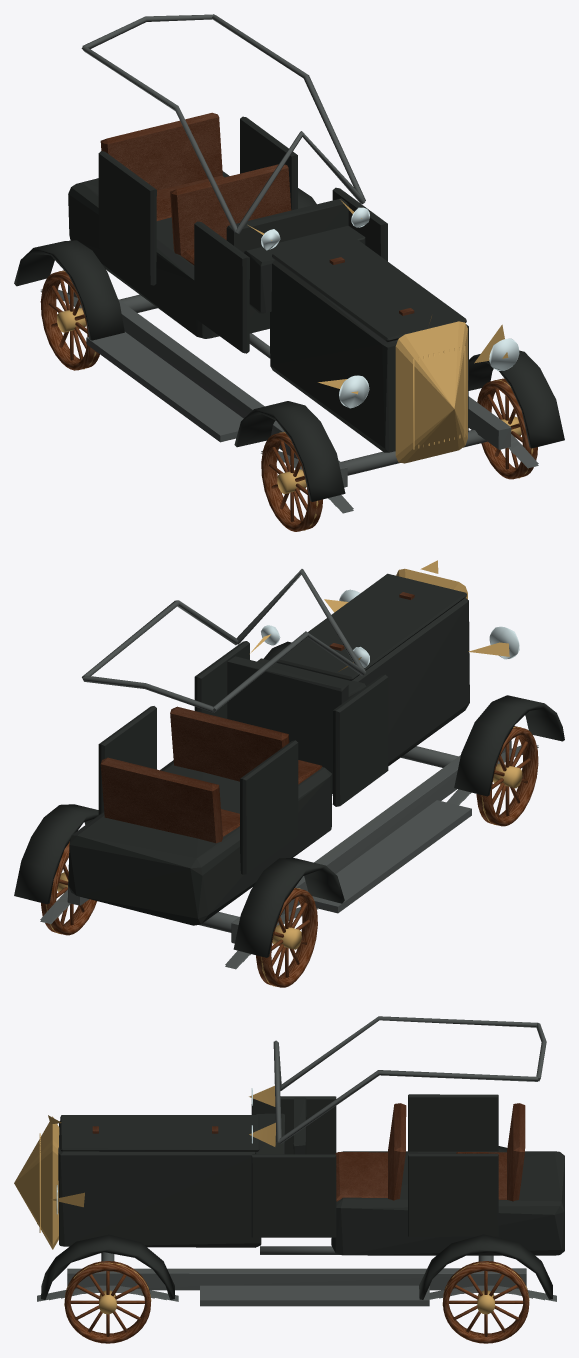
Rendered from Ford_ModelT_1912_LOD2.fbx.
3 views of the same model, one above another, from view 1: azimuth 30°, elevation 25°; view 2: azimuth 150°, elevation 25°; view 3: azimuth 270°, elevation 25° (orthographic). The views are drawn at different scales.
Visible parts, largest first — view 1: Ford_ModelT_1912_Body_Root_OPT_Merged_FORD_Paint_Black_OPT_D, Ford_ModelT_1912_Body_Root_OPT_Merged_RB_Leather_Saddle_OPT_, Ford_ModelT_1912_Body_Root_OPT_Merged_RB_Steel_Blackened_OPT, Ford_ModelT_1912_Body_Root_OPT_Merged_RB_Brass_Aged_OPT_DATA, Ford_ModelT_1912_Chassis_Root_OPT_Merged_RB_Steel_Blackened_, Ford_ModelT_1912_Wheel_FL_Spin_OPT_Merged_RB_Wood_Walnut_OPT, Ford_ModelT_1912_Wheel_RL_Spin_OPT_Merged_RB_Wood_Walnut_OPT, Ford_ModelT_1912_Wheel_FR_Spin_OPT_Merged_RB_Wood_Walnut_OPT, Ford_ModelT_1912_Body_Root_OPT_Merged_RB_Acetylene_Glass_OPT; view 2: Ford_ModelT_1912_Body_Root_OPT_Merged_FORD_Paint_Black_OPT_D, Ford_ModelT_1912_Body_Root_OPT_Merged_RB_Leather_Saddle_OPT_, Ford_ModelT_1912_Body_Root_OPT_Merged_RB_Steel_Blackened_OPT, Ford_ModelT_1912_Chassis_Root_OPT_Merged_RB_Steel_Blackened_, Ford_ModelT_1912_Wheel_FL_Spin_OPT_Merged_RB_Wood_Walnut_OPT, Ford_ModelT_1912_Wheel_RL_Spin_OPT_Merged_RB_Wood_Walnut_OPT, Ford_ModelT_1912_Wheel_RR_Spin_OPT_Merged_RB_Wood_Walnut_OPT, Ford_ModelT_1912_Body_Root_OPT_Merged_RB_Brass_Aged_OPT_DATA, Ford_ModelT_1912_Body_Root_OPT_Merged_RB_Acetylene_Glass_OPT, Ford_ModelT_1912_Wheel_FL_Spin_OPT_Merged_RB_Brass_Aged_OPT_, Ford_ModelT_1912_Wheel_RL_Spin_OPT_Merged_RB_Brass_Aged_OPT_; view 3: Ford_ModelT_1912_Body_Root_OPT_Merged_FORD_Paint_Black_OPT_D, Ford_ModelT_1912_Chassis_Root_OPT_Merged_RB_Steel_Blackened_, Ford_ModelT_1912_Body_Root_OPT_Merged_RB_Steel_Blackened_OPT, Ford_ModelT_1912_Body_Root_OPT_Merged_RB_Leather_Saddle_OPT_, Ford_ModelT_1912_Body_Root_OPT_Merged_RB_Brass_Aged_OPT_DATA, Ford_ModelT_1912_Wheel_FR_Spin_OPT_Merged_RB_Wood_Walnut_OPT, Ford_ModelT_1912_Wheel_RR_Spin_OPT_Merged_RB_Wood_Walnut_OPT, Ford_ModelT_1912_Wheel_FR_Spin_OPT_Merged_RB_Brass_Aged_OPT_, Ford_ModelT_1912_Wheel_RR_Spin_OPT_Merged_RB_Brass_Aged_OPT_.
Part boxes in pixels (bbox=[...]): Ford_ModelT_1912_Body_Root_OPT_Merged_FORD_Paint_Black_OPT_D: bbox=[14, 116, 564, 501]; Ford_ModelT_1912_Body_Root_OPT_Merged_RB_Leather_Saddle_OPT_: bbox=[100, 112, 414, 315]; Ford_ModelT_1912_Body_Root_OPT_Merged_RB_Steel_Blackened_OPT: bbox=[81, 14, 365, 442]; Ford_ModelT_1912_Body_Root_OPT_Merged_RB_Brass_Aged_OPT_DATA: bbox=[248, 199, 508, 463]; Ford_ModelT_1912_Chassis_Root_OPT_Merged_RB_Steel_Blackened_: bbox=[40, 284, 538, 513]; Ford_ModelT_1912_Wheel_FL_Spin_OPT_Merged_RB_Wood_Walnut_OPT: bbox=[261, 431, 322, 531]; Ford_ModelT_1912_Wheel_RL_Spin_OPT_Merged_RB_Wood_Walnut_OPT: bbox=[40, 270, 99, 370]; Ford_ModelT_1912_Wheel_FR_Spin_OPT_Merged_RB_Wood_Walnut_OPT: bbox=[477, 378, 537, 479]; Ford_ModelT_1912_Body_Root_OPT_Merged_RB_Acetylene_Glass_OPT: bbox=[261, 207, 519, 408]; Ford_ModelT_1912_Body_Root_OPT_Merged_FORD_Paint_Black_OPT_D: bbox=[14, 573, 564, 957]; Ford_ModelT_1912_Body_Root_OPT_Merged_RB_Leather_Saddle_OPT_: bbox=[100, 592, 414, 843]; Ford_ModelT_1912_Body_Root_OPT_Merged_RB_Steel_Blackened_OPT: bbox=[82, 569, 471, 913]; Ford_ModelT_1912_Chassis_Root_OPT_Merged_RB_Steel_Blackened_: bbox=[40, 740, 538, 969]; Ford_ModelT_1912_Wheel_FL_Spin_OPT_Merged_RB_Wood_Walnut_OPT: bbox=[476, 726, 538, 826]; Ford_ModelT_1912_Wheel_RL_Spin_OPT_Merged_RB_Wood_Walnut_OPT: bbox=[256, 887, 317, 987]; Ford_ModelT_1912_Wheel_RR_Spin_OPT_Merged_RB_Wood_Walnut_OPT: bbox=[41, 842, 96, 935]; Ford_ModelT_1912_Body_Root_OPT_Merged_RB_Brass_Aged_OPT_DATA: bbox=[250, 560, 509, 671]; Ford_ModelT_1912_Body_Root_OPT_Merged_RB_Acetylene_Glass_OPT: bbox=[261, 589, 519, 667]; Ford_ModelT_1912_Wheel_FL_Spin_OPT_Merged_RB_Brass_Aged_OPT_: bbox=[481, 727, 522, 825]; Ford_ModelT_1912_Wheel_RL_Spin_OPT_Merged_RB_Brass_Aged_OPT_: bbox=[261, 888, 301, 986]; Ford_ModelT_1912_Body_Root_OPT_Merged_FORD_Paint_Black_OPT_D: bbox=[41, 1094, 564, 1299]; Ford_ModelT_1912_Chassis_Root_OPT_Merged_RB_Steel_Blackened_: bbox=[37, 1223, 556, 1301]; Ford_ModelT_1912_Body_Root_OPT_Merged_RB_Steel_Blackened_OPT: bbox=[200, 1016, 546, 1306]; Ford_ModelT_1912_Body_Root_OPT_Merged_RB_Leather_Saddle_OPT_: bbox=[92, 1103, 525, 1201]; Ford_ModelT_1912_Body_Root_OPT_Merged_RB_Brass_Aged_OPT_DATA: bbox=[14, 1085, 275, 1249]; Ford_ModelT_1912_Wheel_FR_Spin_OPT_Merged_RB_Wood_Walnut_OPT: bbox=[64, 1261, 150, 1343]; Ford_ModelT_1912_Wheel_RR_Spin_OPT_Merged_RB_Wood_Walnut_OPT: bbox=[443, 1261, 529, 1343]; Ford_ModelT_1912_Wheel_FR_Spin_OPT_Merged_RB_Brass_Aged_OPT_: bbox=[64, 1262, 151, 1314]; Ford_ModelT_1912_Wheel_RR_Spin_OPT_Merged_RB_Brass_Aged_OPT_: bbox=[442, 1262, 529, 1314].
Size of what is drawn, in the model's own units: 168 by 190 by 370.
Materials: 6 (2 with a texture image).
